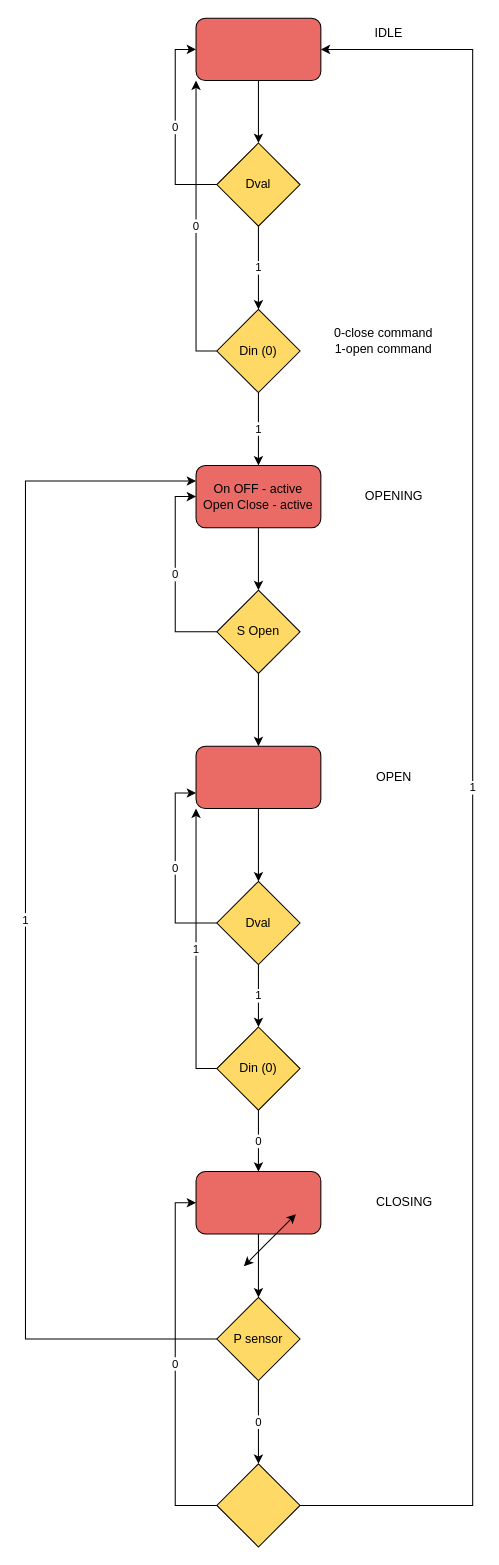
The diagram is 499 pixels wide and 1565 high, and some of its shapes have lost their labels. The centre of each missing label's shape, as x and y in pixels:
done: point (258, 777)
On OFF - active Open Close - not active: point (258, 1202)
S close: point (258, 1505)
